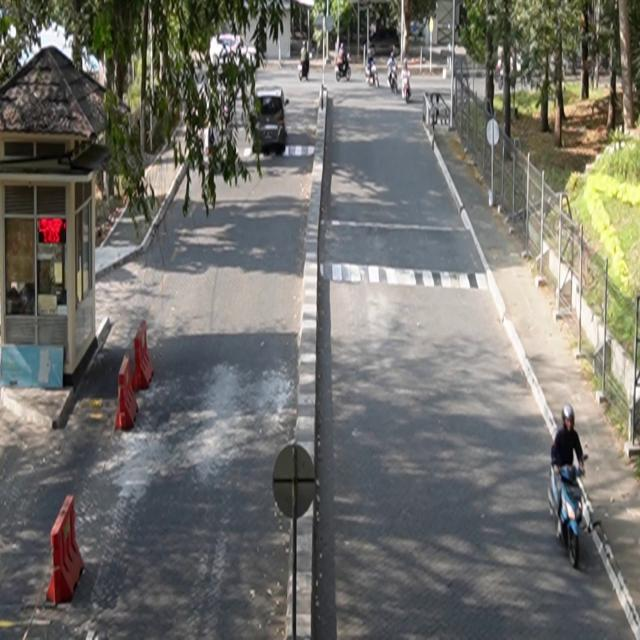car: (251, 87, 290, 156)
